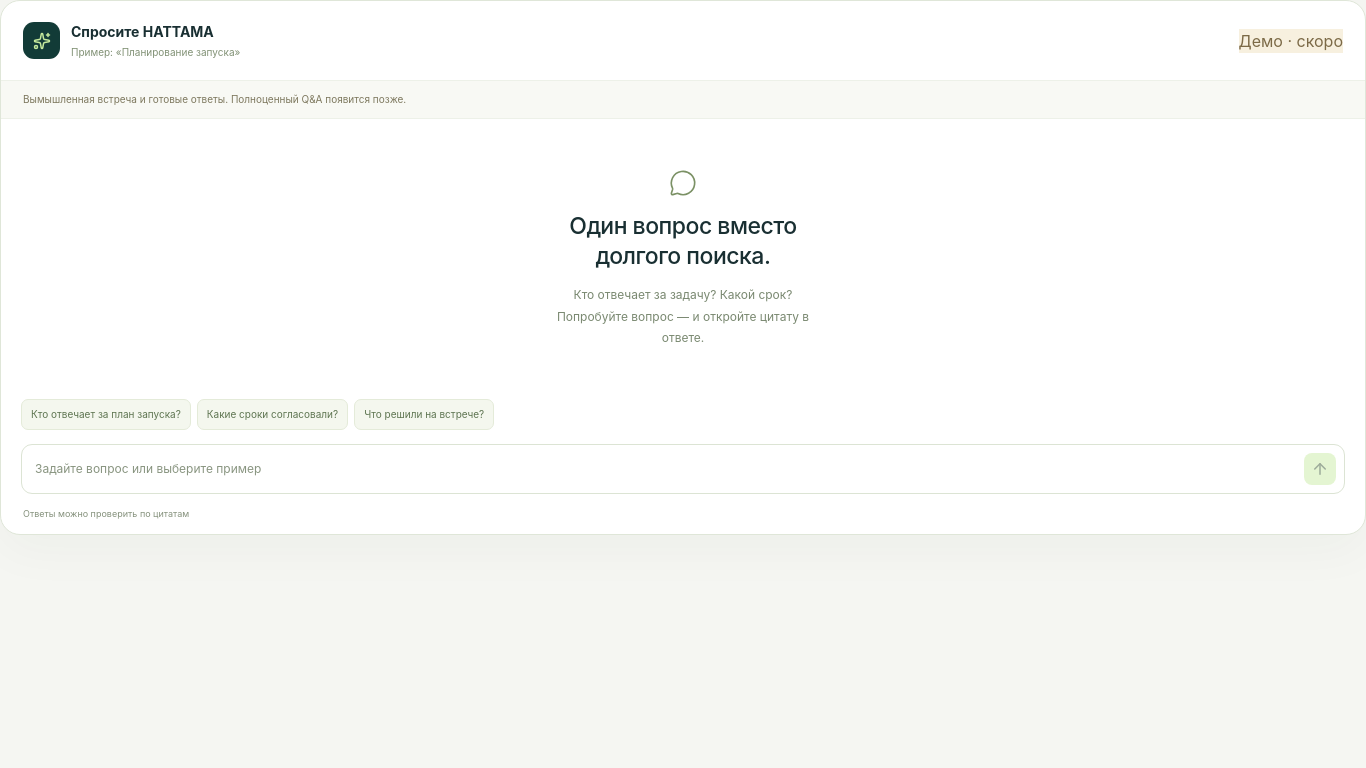
Q&A preview › keeps the question available after a client failure
Step 1. Click the button "Какие сроки согласовали?" → (272, 414), box [197,399,348,430]
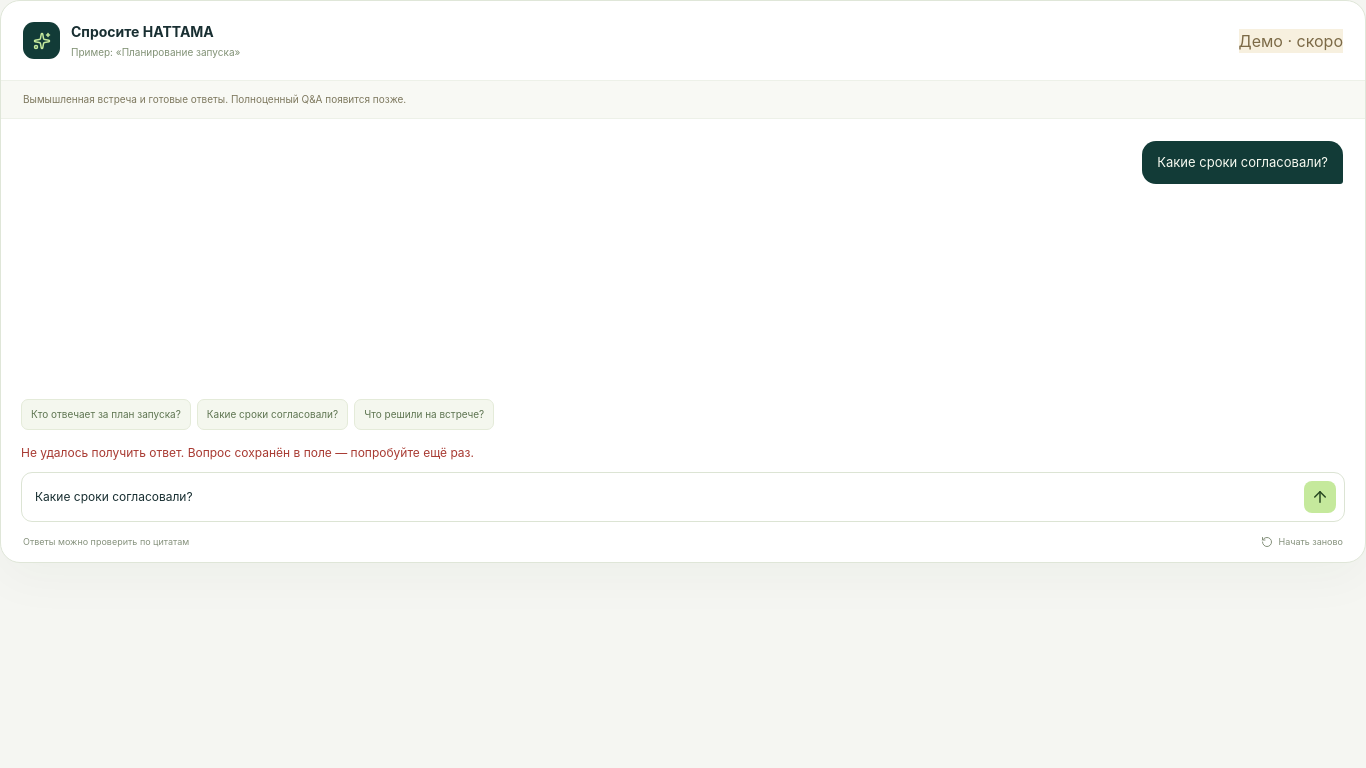
Now the message shows "попробуйте ещё раз", box [21,445,474,460]
Now the field named "Вопрос ассистенту" holds "Какие сроки согласовали?", box [30,483,1296,511]
